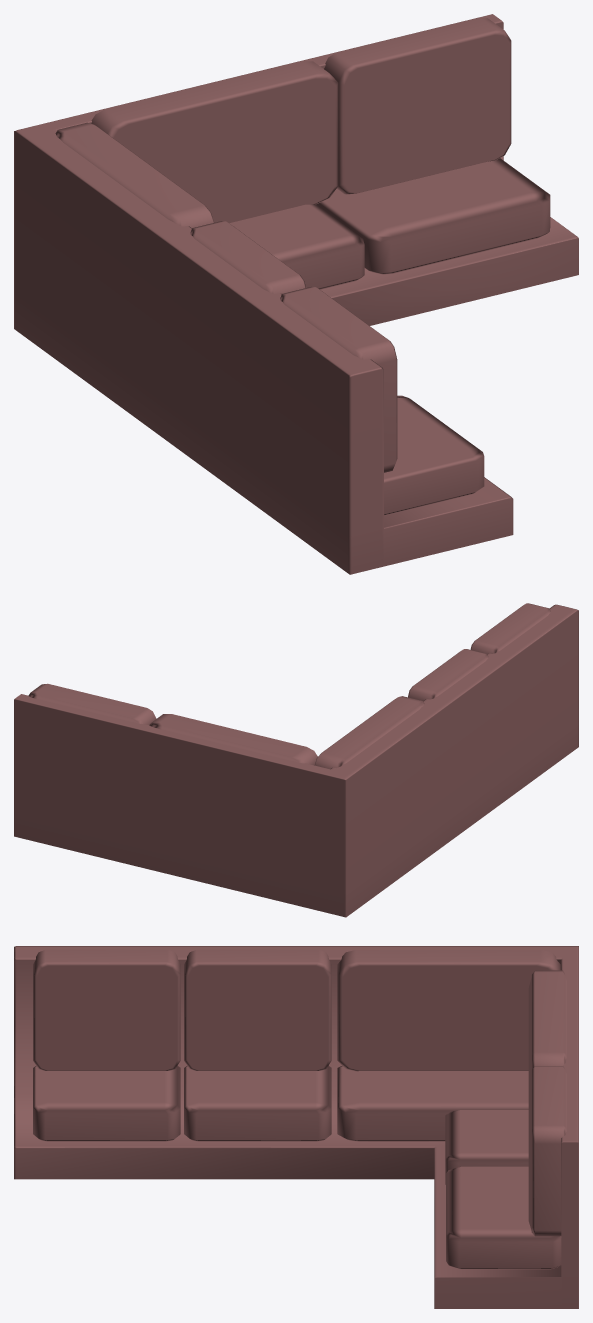
Rendered from navajo_couch_v02.fbx.
3 views of the same model, one above another, from view 1: azimuth 30°, elevation 25°; view 2: azimuth 150°, elevation 25°; view 3: azimuth 270°, elevation 25° (orthographic). The views are drawn at different scales.
Visible parts, largest first — view 1: polySurface21; view 2: polySurface21; view 3: polySurface21.
Part boxes in pixels (bbox=[...]): polySurface21: bbox=[14, 14, 578, 574]; polySurface21: bbox=[14, 603, 578, 917]; polySurface21: bbox=[14, 946, 578, 1308].
Bounding box in the file's own units: 3.11 × 1.29 × 3.78.
